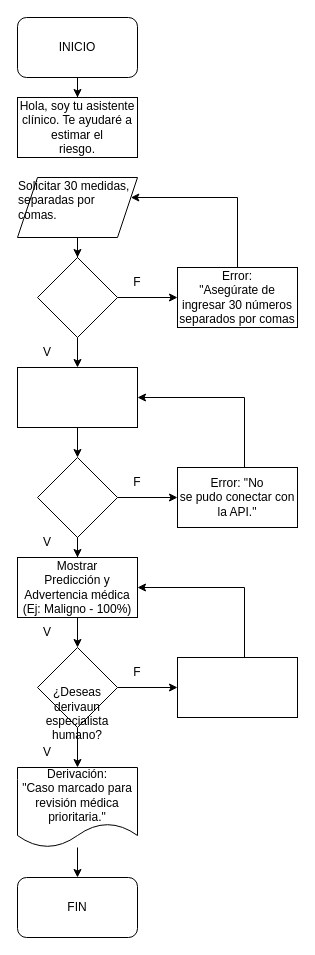
This 315x955 diagram has some shape labels left out. The box of each missing label's shape, as (x1, y1, x2, y2) in pixels:
Consultar API (/predecir): (16, 366, 138, 428)
Puedes ingresar otro caso: (176, 656, 298, 718)
¿API responde con éxito (200)?: (36, 456, 118, 538)
¿Datos válidos?: (36, 256, 118, 338)
